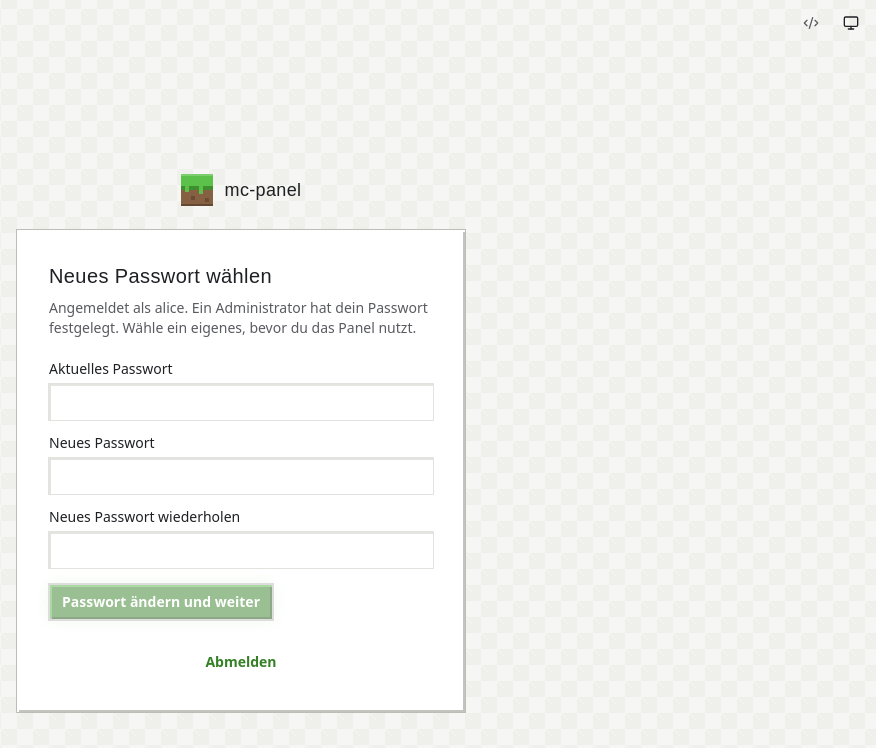
Test: ChangePasswordPage › shows a validation error of the server
In the password field labelled "Aktuelles Passwort": (241, 402) [49, 384, 433, 420], type "correct-horse-battery"
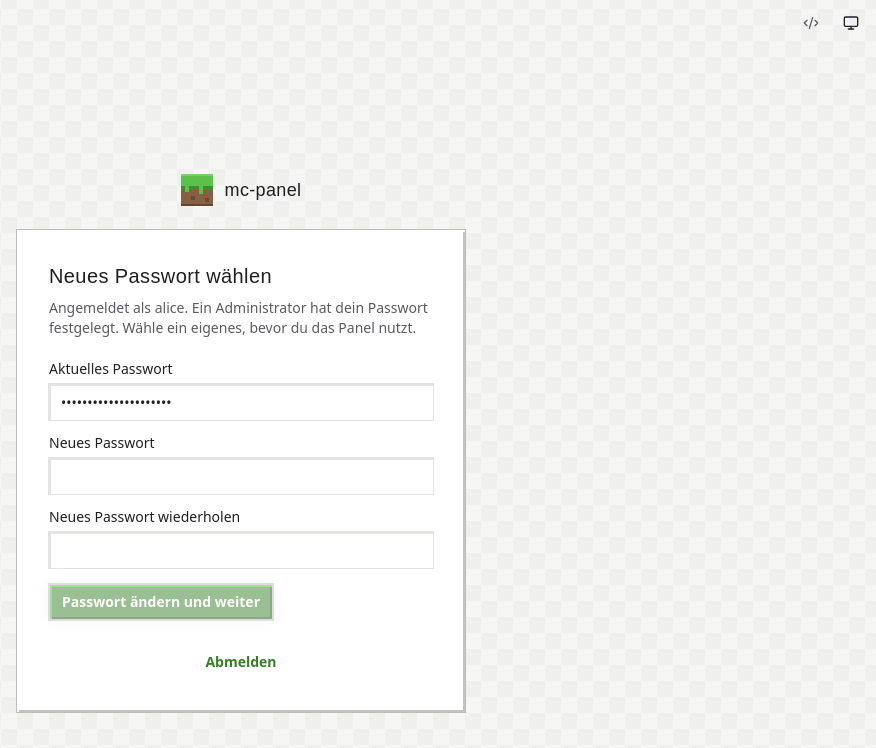
In the password field labelled "Neues Passwort": (241, 476) [49, 458, 433, 494], type "a brand new passphrase"
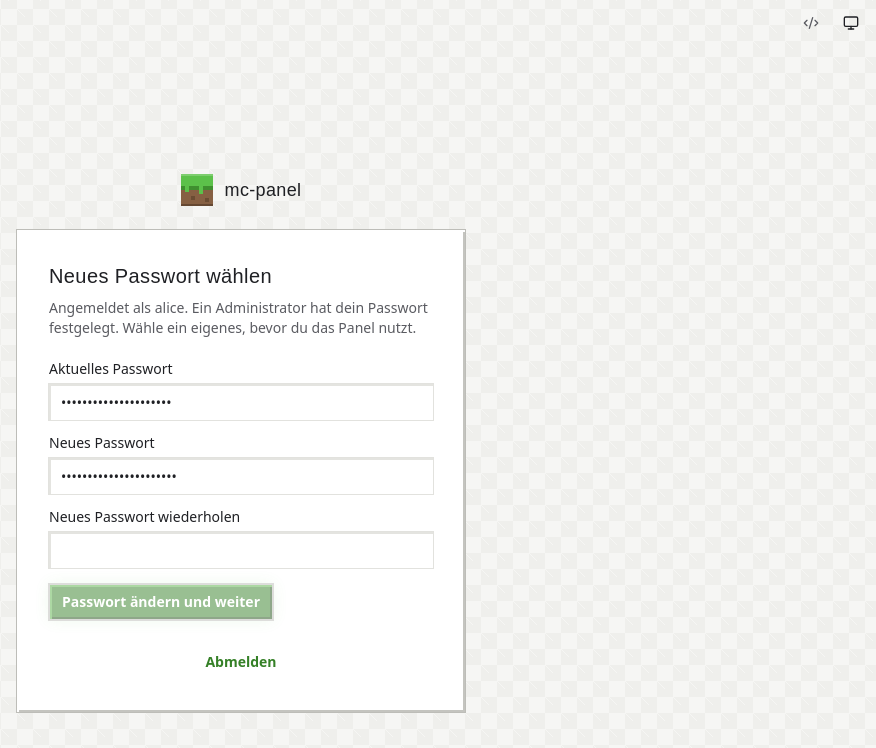
In the password field labelled "Neues Passwort wiederholen": (241, 550) [49, 532, 433, 568], type "a brand new passphrase"
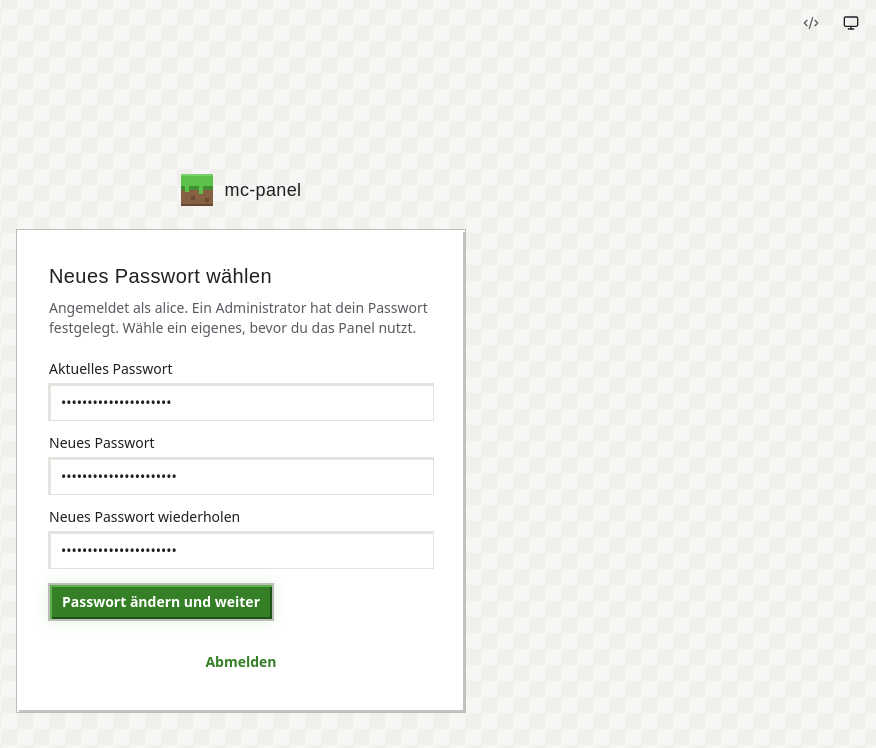
Click the button "Passwort ändern und weiter": (161, 602) [49, 584, 273, 620]
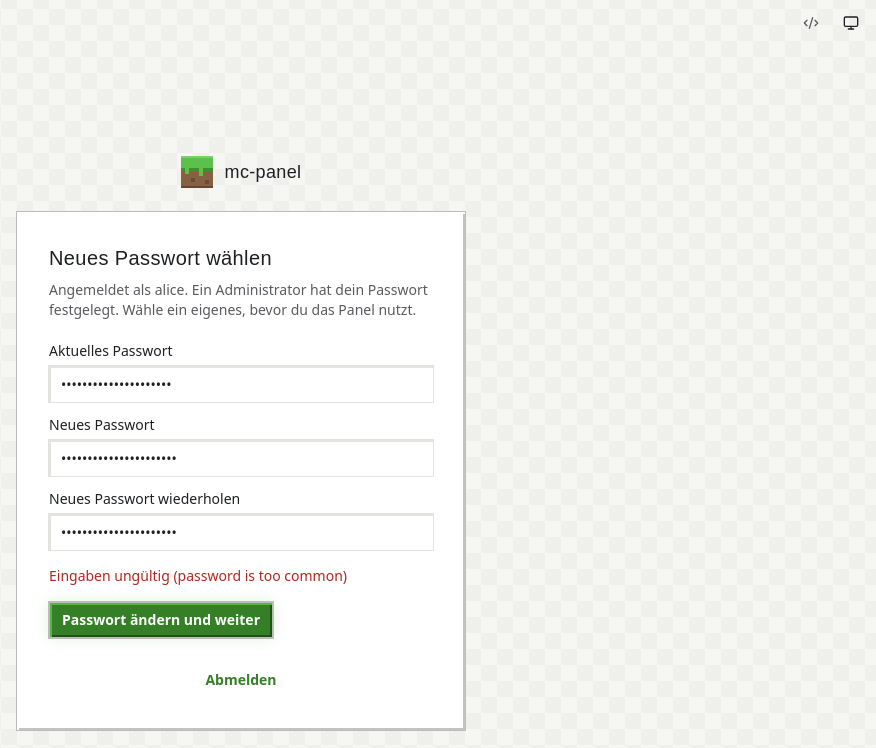
Expected: the message reads "Eingaben ungültig (password is too common)", [49, 566, 347, 585]
